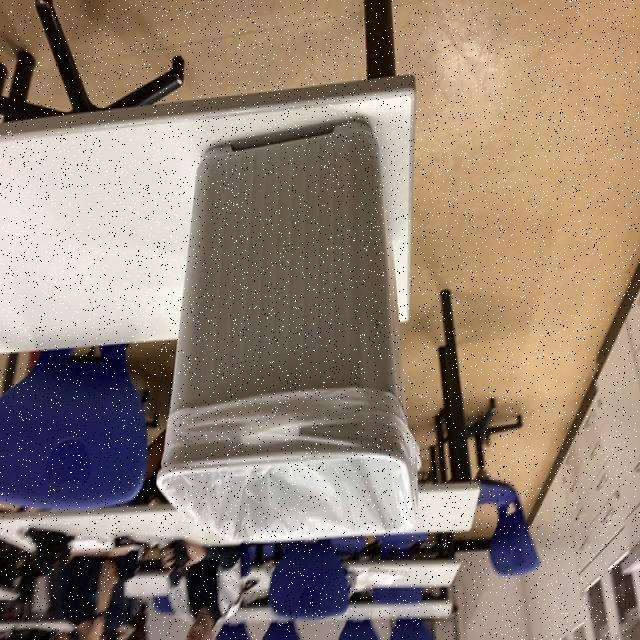garbage container: (122, 97, 432, 589)
